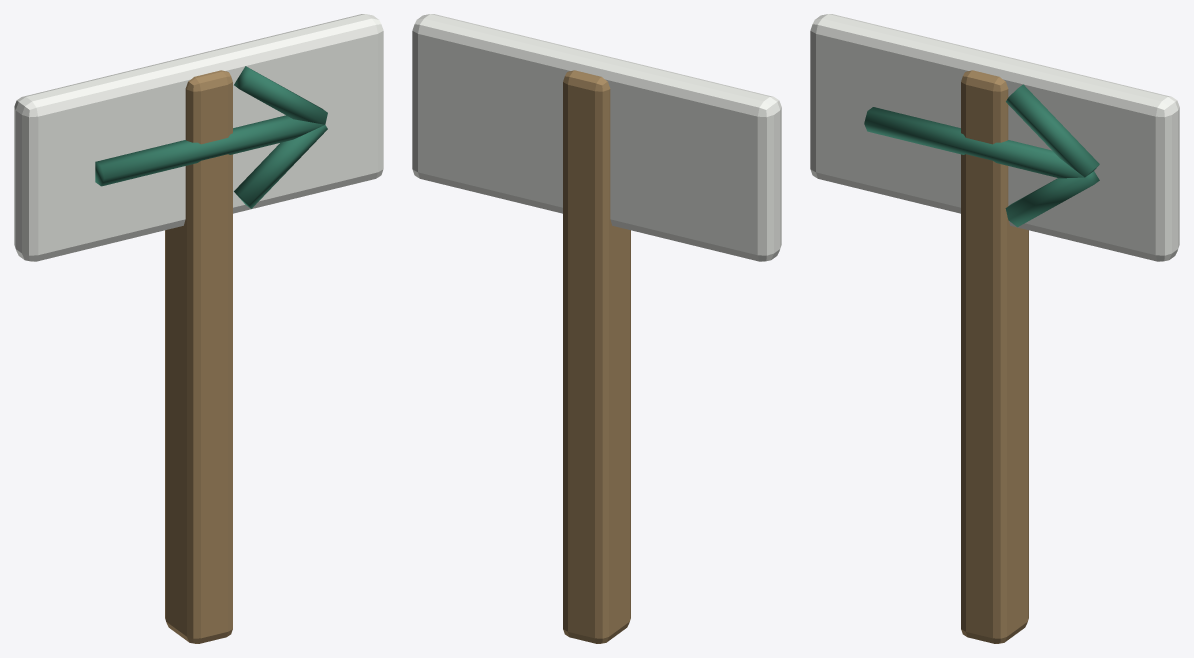
Rendered from route-sign.glb.
3 renders of one model, left to right at view 1: azimuth 30°, elevation 25°; view 2: azimuth 150°, elevation 25°; view 3: azimuth 330°, elevation 25°, orthographic.
Visible parts, largest first — view 1: tyaga-route-sign-surface; view 2: tyaga-route-sign-surface; view 3: tyaga-route-sign-surface.
Part boxes in pixels (x1=…): tyaga-route-sign-surface: x1=14, y1=14, x2=383, y2=643; tyaga-route-sign-surface: x1=412, y1=14, x2=781, y2=643; tyaga-route-sign-surface: x1=810, y1=14, x2=1179, y2=643.
Bounding box in the file's own units: 0.8 × 1.22 × 0.13.
